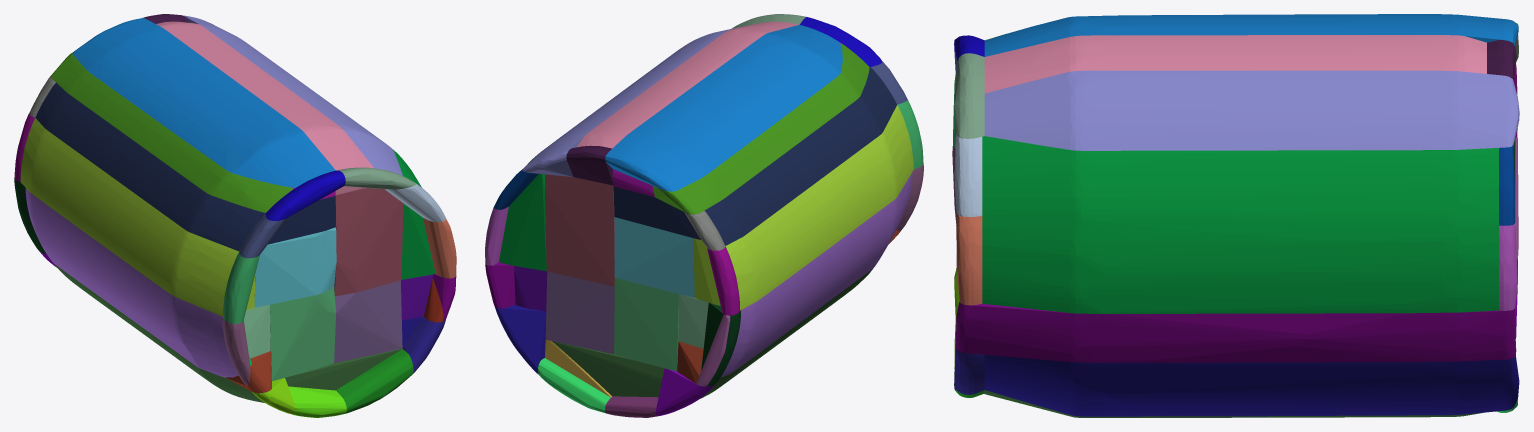
The model's file is coacd_collision.obj.
3 renders of one model, left to right at view 1: azimuth 30°, elevation 25°; view 2: azimuth 150°, elevation 25°; view 3: azimuth 270°, elevation 25°, orthographic. The views are drawn at different scales.
Parts seen in each view (by area): view 1: geometry_29, geometry_34, geometry_21, geometry_40, geometry_30, geometry_13, geometry_24, geometry_3, geometry_2, geometry_1, geometry_12, geometry_19 (+19 smaller); view 2: geometry_29, geometry_34, geometry_21, geometry_40, geometry_30, geometry_13, geometry_24, geometry_3, geometry_2, geometry_1, geometry_19, geometry_12 (+23 smaller); view 3: geometry_33, geometry_12, geometry_20, geometry_11, geometry_24, geometry_29, geometry_0, geometry_9, geometry_6, geometry_38, geometry_42, geometry_18 (+3 smaller).
Boxes of the visible parts, x1,y1,x2,y2 form: geometry_29: [72, 18, 335, 187]; geometry_34: [20, 118, 255, 316]; geometry_21: [35, 82, 335, 251]; geometry_40: [25, 188, 238, 377]; geometry_30: [51, 52, 293, 212]; geometry_13: [334, 188, 403, 296]; geometry_24: [156, 21, 373, 194]; geometry_3: [270, 287, 335, 380]; geometry_2: [254, 227, 336, 307]; geometry_1: [334, 280, 402, 363]; geometry_12: [184, 15, 402, 175]; geometry_19: [53, 263, 402, 402]; geometry_29: [605, 25, 842, 191]; geometry_34: [693, 105, 913, 310]; geometry_21: [613, 67, 896, 245]; geometry_40: [721, 172, 912, 377]; geometry_30: [652, 43, 869, 214]; geometry_13: [545, 174, 614, 286]; geometry_24: [577, 21, 798, 148]; geometry_3: [614, 278, 678, 371]; geometry_2: [614, 217, 694, 297]; geometry_1: [545, 271, 614, 354]; geometry_19: [552, 269, 872, 398]; geometry_12: [522, 23, 756, 176]; geometry_33: [982, 136, 1498, 313]; geometry_12: [984, 70, 1519, 150]; geometry_20: [984, 355, 1519, 416]; geometry_11: [956, 302, 1515, 362]; geometry_24: [984, 35, 1486, 93]; geometry_29: [984, 14, 1518, 56]; geometry_0: [954, 53, 984, 138]; geometry_9: [956, 213, 982, 305]; geometry_6: [954, 132, 982, 216]; geometry_38: [1499, 223, 1517, 310]; geometry_42: [1499, 145, 1515, 225]; geometry_18: [954, 349, 984, 394].
Bounding box in the file's own units: 67.37 × 66.93 × 94.23.
